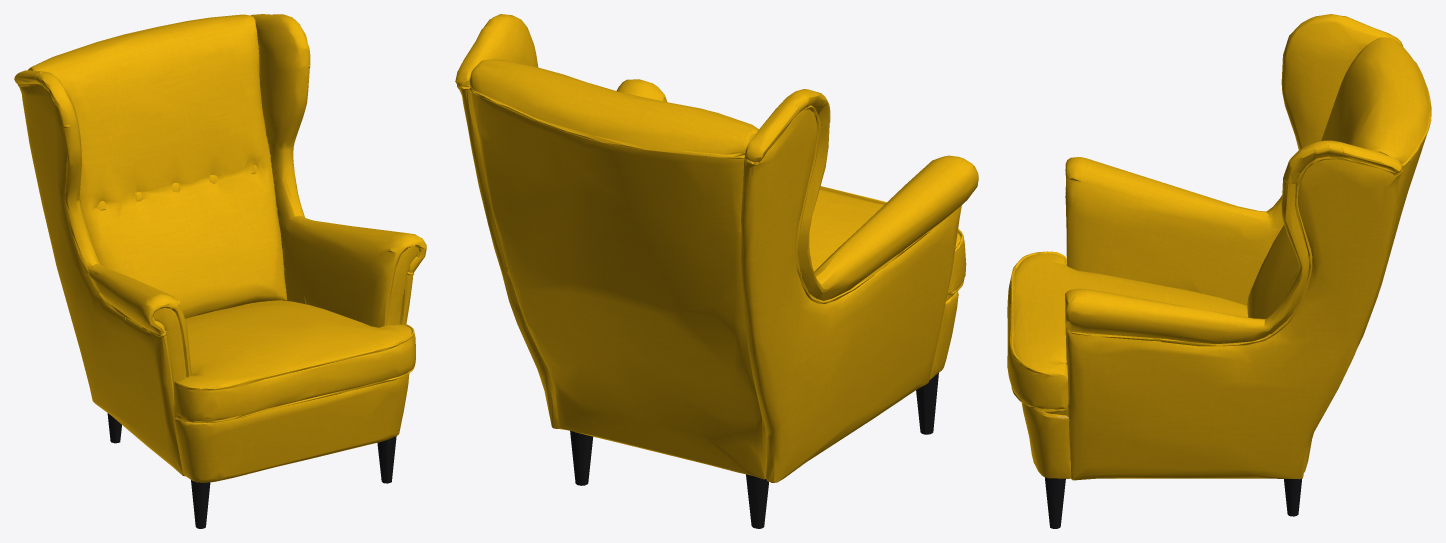
The model's file is strandmon_wing_chair_skiftebo_yellow.glb.
3 views of the same model, side by side, from view 1: azimuth 30°, elevation 25°; view 2: azimuth 150°, elevation 25°; view 3: azimuth 270°, elevation 25° (orthographic). The views are drawn at different scales.
Parts seen in each view (by area): view 1: ProcessedMeshNode; view 2: ProcessedMeshNode; view 3: ProcessedMeshNode.
Part boxes in pixels (left/top/right/bottom): ProcessedMeshNode: left=14, top=14, right=426, bottom=528; ProcessedMeshNode: left=455, top=14, right=978, bottom=528; ProcessedMeshNode: left=1007, top=14, right=1431, bottom=528.
Bounding box in the file's own units: 0.8083 × 1.01 × 0.9698.
Materials: 1 (1 with a texture image).
